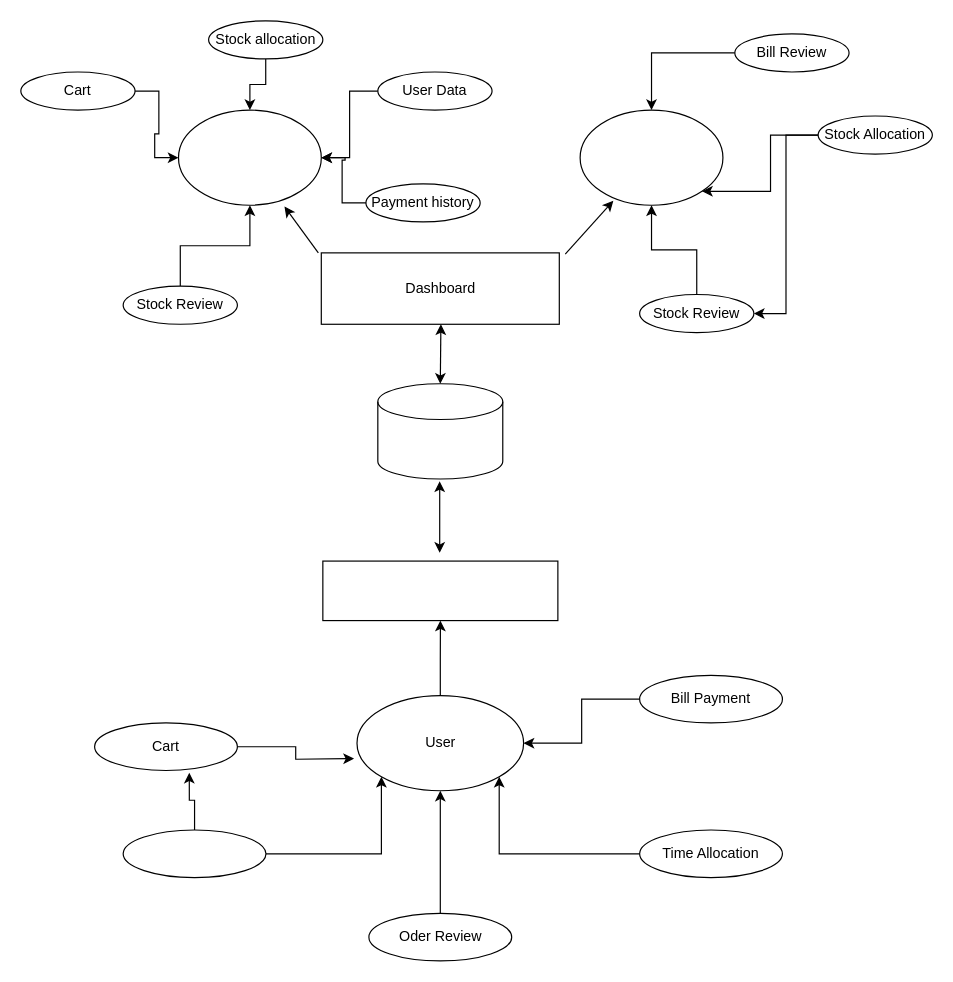
Some shapes in this 953 by 982 pixel diagram are drawn without their labels. The shapes that lost their labels are listed below. From the top down, each one's centre as x and y in pixels, then its label:
At (249,157): "Ration/Neeti".
At (651,157): "Food Supply Depot".
At (440,431): "Database".
At (440,590): "Front End".
At (194,853): "Allocated Kit".
